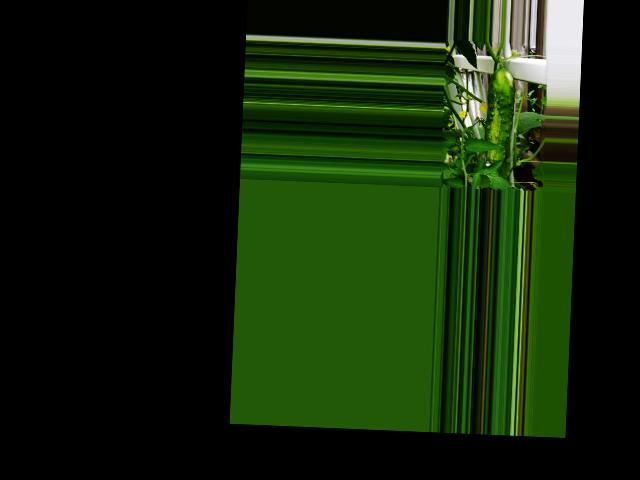cucumber: (484, 67, 516, 163)
